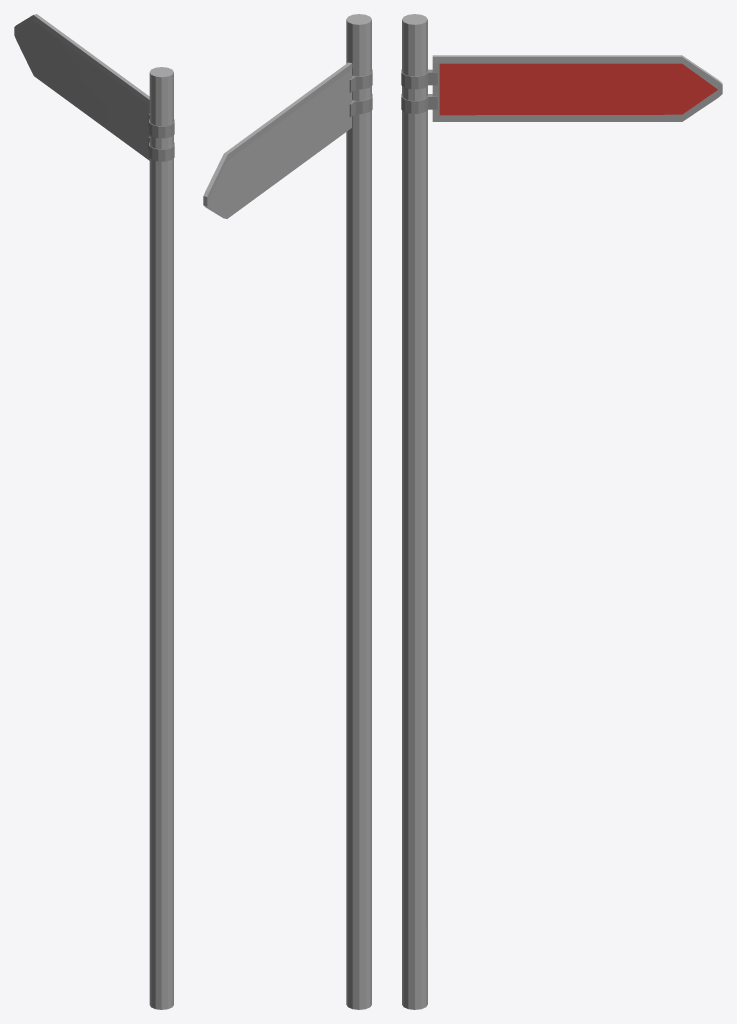
The model's file is direction sign 1.fbx.
3 views of the same model, side by side, from view 1: azimuth 30°, elevation 25°; view 2: azimuth 150°, elevation 25°; view 3: azimuth 270°, elevation 25° (orthographic). The views are drawn at different scales.
Parts seen in each view (by area): view 1: Cylinder; view 2: Cylinder; view 3: Cylinder.
Part boxes in pixels (<box>): Cylinder: <box>14,14,174,1009</box>; Cylinder: <box>203,14,372,1009</box>; Cylinder: <box>401,14,722,1009</box>.
Bounding box in the file's own units: 75.43 × 3044 × 899.
